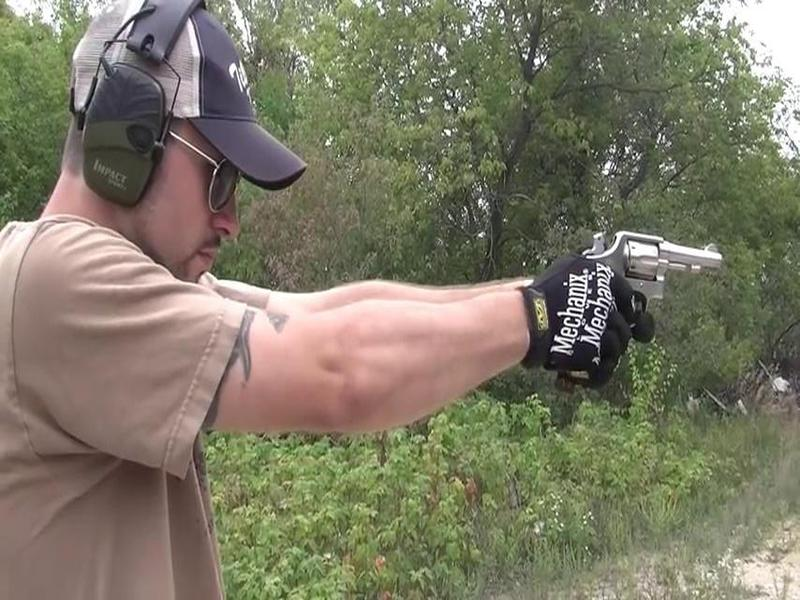Revolver: (585, 221, 720, 351)
